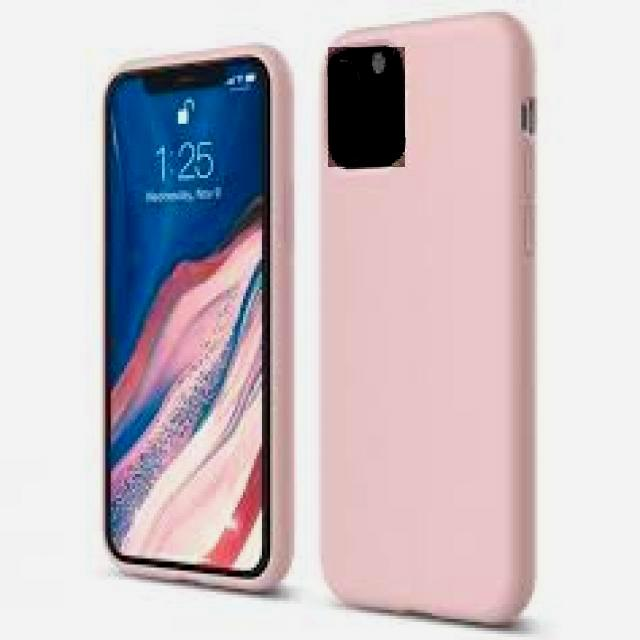lens: (324, 48, 404, 167)
phone: (312, 7, 545, 629), (94, 38, 302, 600)
